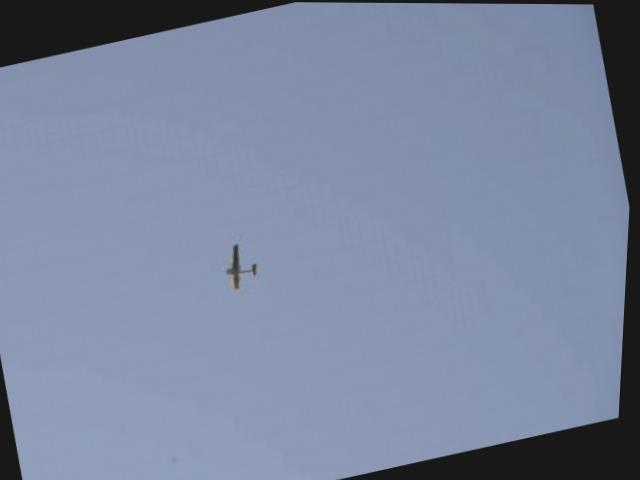uav: (211, 225, 276, 299)
